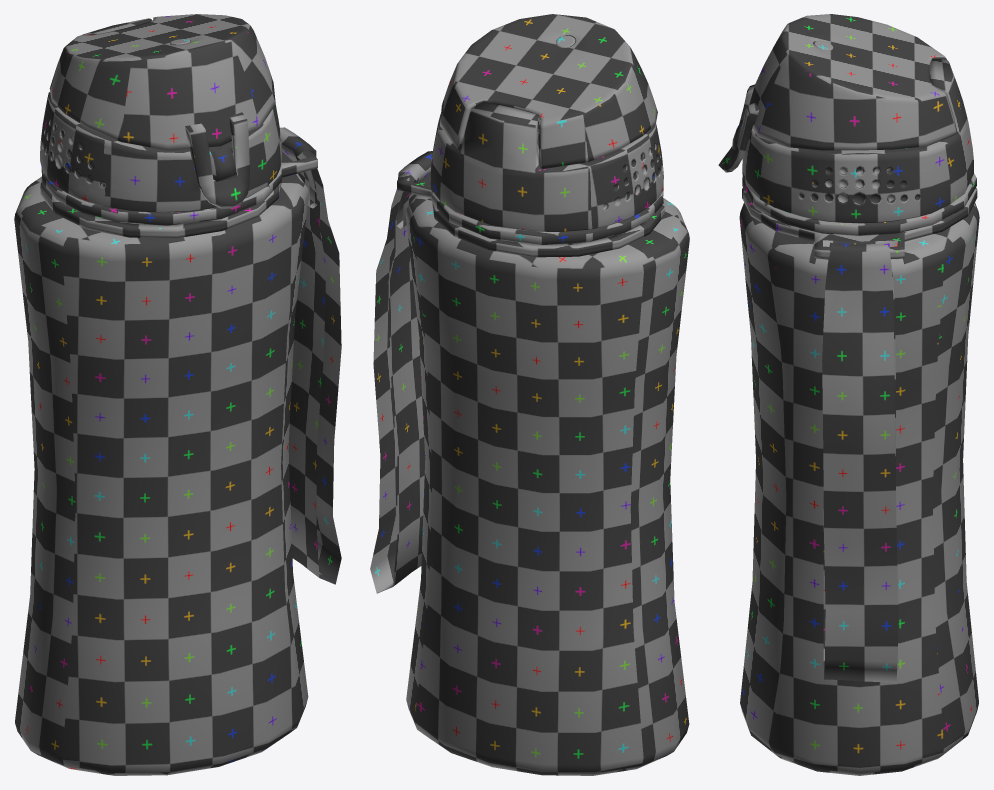
File: Carrafinha.glb
3 views of the same model, side by side, from view 1: azimuth 30°, elevation 25°; view 2: azimuth 150°, elevation 25°; view 3: azimuth 270°, elevation 25° (orthographic). The views are drawn at different scales.
Parts seen in each view (by area): view 1: Recipiente.001; view 2: Recipiente.001; view 3: Recipiente.001.
Boxes of the visible parts, <box> form: Recipiente.001: <box>14,14,341,775</box>; Recipiente.001: <box>370,14,689,775</box>; Recipiente.001: <box>718,14,979,775</box>.
Size of the model in its own units: 0.1112 by 0.2518 by 0.0874.
1 material, 1 textured.
